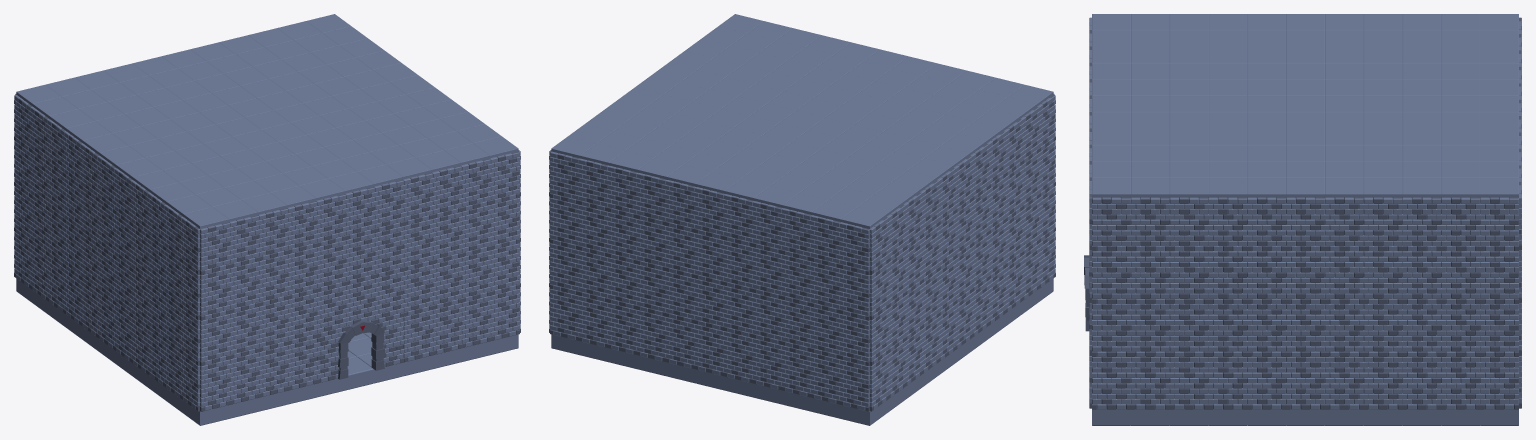
Rendered from CombatRoom_11x11.gltf.
3 renders of one model, left to right at view 1: azimuth 30°, elevation 25°; view 2: azimuth 150°, elevation 25°; view 3: azimuth 270°, elevation 25°, orthographic. The views are drawn at different scales.
Parts seen in each view (by area): view 1: ArchOpen, Wall_S_0_T3, Wall_S_0_T0, Wall_S_0_T2, Wall_S_0_T1, Wall_S_2_T3, Wall_S_3_T3, Wall_S_4_T3, Wall_S_1_T3, Wall_S_5_T3, Wall_S_6_T3, Wall_S_10_T3 (+198 smaller); view 2: Wall_N_0_T3, Wall_N_0_T0, Wall_N_0_T2, Wall_N_0_T1, Wall_N_2_T3, Wall_N_3_T3, Wall_N_4_T3, Wall_N_1_T3, Wall_N_5_T3, Wall_N_6_T3, Wall_N_10_T3, Wall_N_7_T3 (+198 smaller); view 3: Wall_E_2_T3, Wall_E_8_T3, Wall_E_9_T3, Wall_E_3_T3, Wall_E_7_T3, Wall_E_2_T2, Wall_E_7_T2, Wall_E_9_T2, Wall_E_3_T2, Wall_E_8_T2, Wall_E_10_T3, Wall_E_1_T3 (+165 smaller).
Boxes of the visible parts, bbox=[...] form: ArchOpen: bbox=[317, 317, 403, 383]; Wall_S_0_T3: bbox=[200, 222, 230, 275]; Wall_S_0_T0: bbox=[200, 359, 230, 411]; Wall_S_0_T2: bbox=[200, 268, 230, 320]; Wall_S_0_T1: bbox=[200, 314, 230, 366]; Wall_S_2_T3: bbox=[258, 208, 288, 261]; Wall_S_3_T3: bbox=[287, 201, 317, 254]; Wall_S_4_T3: bbox=[316, 194, 346, 246]; Wall_S_1_T3: bbox=[229, 215, 259, 268]; Wall_S_5_T3: bbox=[345, 187, 375, 239]; Wall_S_6_T3: bbox=[374, 179, 404, 232]; Wall_S_10_T3: bbox=[490, 151, 519, 204]; Wall_N_0_T3: bbox=[839, 222, 869, 275]; Wall_N_0_T0: bbox=[839, 359, 869, 411]; Wall_N_0_T2: bbox=[839, 268, 869, 320]; Wall_N_0_T1: bbox=[839, 314, 869, 366]; Wall_N_2_T3: bbox=[781, 208, 811, 261]; Wall_N_3_T3: bbox=[752, 201, 782, 254]; Wall_N_4_T3: bbox=[723, 194, 753, 246]; Wall_N_1_T3: bbox=[810, 215, 840, 268]; Wall_N_5_T3: bbox=[694, 187, 724, 239]; Wall_N_6_T3: bbox=[665, 179, 695, 232]; Wall_N_10_T3: bbox=[550, 151, 579, 204]; Wall_N_7_T3: bbox=[637, 172, 666, 225]; Wall_E_2_T3: bbox=[1169, 197, 1208, 251]; Wall_E_8_T3: bbox=[1402, 197, 1441, 251]; Wall_E_9_T3: bbox=[1441, 197, 1480, 251]; Wall_E_3_T3: bbox=[1208, 197, 1247, 251]; Wall_E_7_T3: bbox=[1363, 197, 1402, 251]; Wall_E_2_T2: bbox=[1169, 251, 1208, 304]; Wall_E_7_T2: bbox=[1363, 251, 1402, 304]; Wall_E_9_T2: bbox=[1441, 251, 1480, 304]; Wall_E_3_T2: bbox=[1208, 251, 1247, 304]; Wall_E_8_T2: bbox=[1402, 251, 1441, 304]; Wall_E_10_T3: bbox=[1480, 197, 1518, 251]; Wall_E_1_T3: bbox=[1131, 197, 1169, 251].
Bounding box in the file's own units: 22.3 × 13.2 × 22.56.
